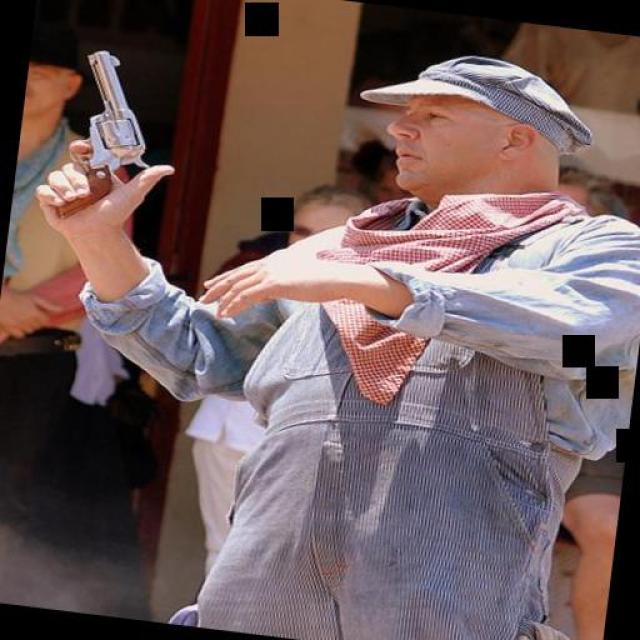gun: (44, 44, 161, 228)
